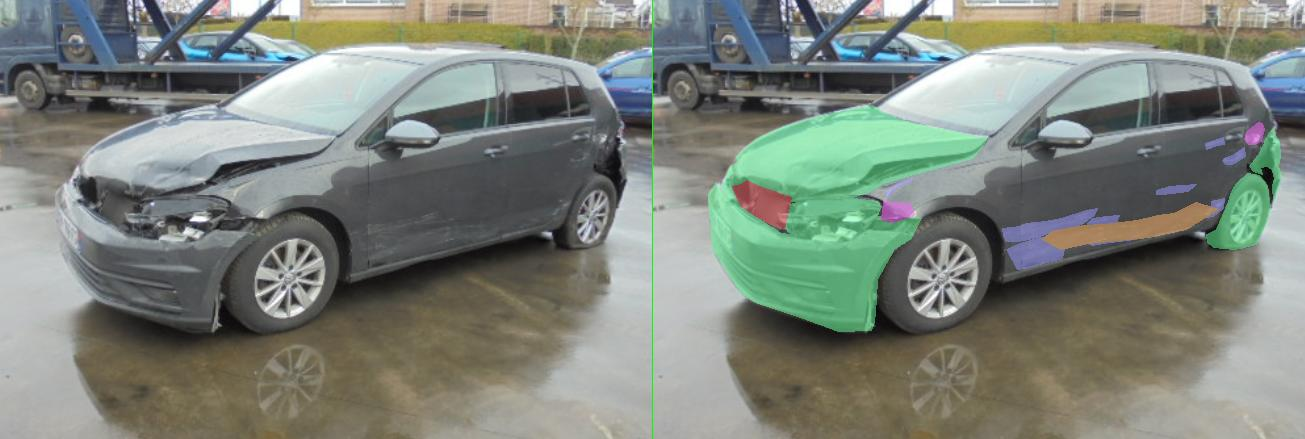Broken part: (110, 182, 536, 331), (166, 105, 669, 202), (1107, 173, 1235, 249), (248, 198, 456, 240), (1193, 127, 1257, 201), (136, 162, 218, 216)
Dent: (456, 201, 522, 222), (1183, 122, 1223, 144)
Missing part: (158, 180, 276, 229)
Paint chip: (779, 202, 1131, 249)
Scratch: (699, 208, 889, 241), (707, 237, 827, 269), (865, 233, 987, 245), (849, 224, 965, 236), (462, 177, 522, 197), (1031, 215, 1091, 229), (1007, 184, 1087, 194), (1101, 198, 1143, 217), (1139, 147, 1185, 164), (867, 215, 933, 226), (1105, 137, 1143, 149), (961, 221, 1013, 227)
